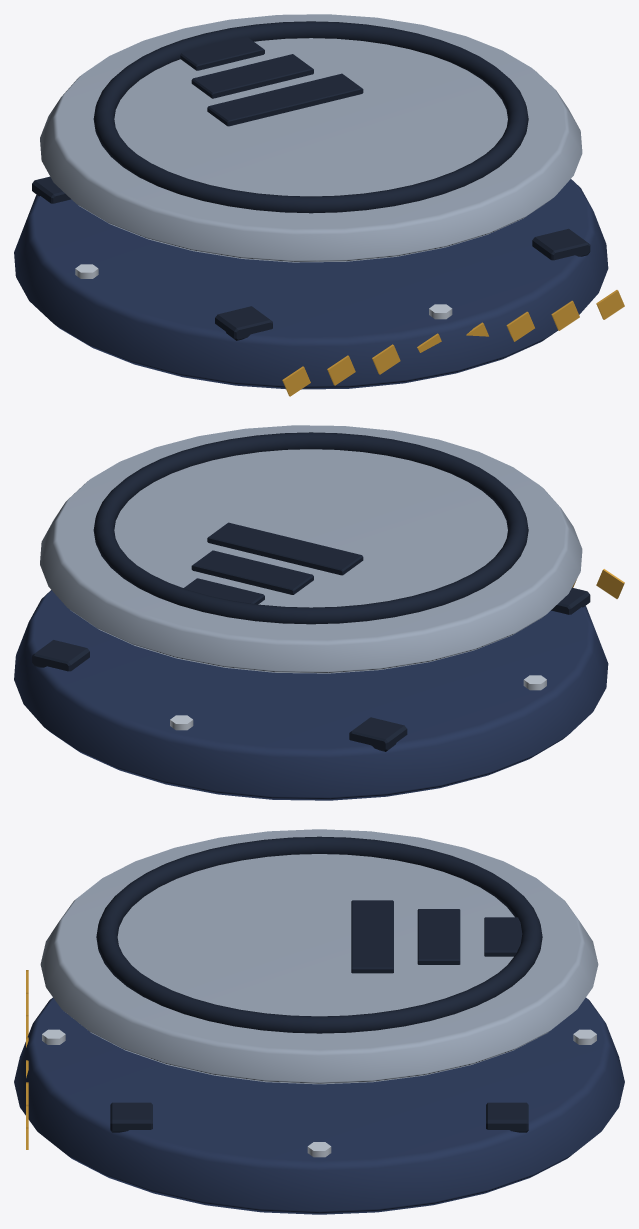
File: shared_launcher_idle.glb
3 renders of one model, top to bottom at view 1: azimuth 30°, elevation 25°; view 2: azimuth 150°, elevation 25°; view 3: azimuth 270°, elevation 25°, orthographic. The views are drawn at different scales.
Parts seen in each view (by area): view 1: launcher_pad, launcher_base, launcher_ring, launcher_chevron0, launcher_hazard, launcher_chevron1, launcher_chevron2, launcher_guide_socket1, launcher_guide_socket0, launcher_bolts, launcher_guide_socket2; view 2: launcher_pad, launcher_base, launcher_ring, launcher_chevron0, launcher_chevron1, launcher_guide_socket2, launcher_guide_socket3, launcher_chevron2, launcher_bolts, launcher_guide_socket1; view 3: launcher_pad, launcher_base, launcher_ring, launcher_chevron0, launcher_chevron1, launcher_chevron2, launcher_guide_socket0, launcher_guide_socket3, launcher_bolts.
Part boxes in pixels (box(x1,y1,x2,y2)): launcher_pad: box(40, 14, 582, 262); launcher_base: box(14, 179, 608, 389); launcher_ring: box(93, 21, 528, 213); launcher_chevron0: box(207, 73, 363, 126); launcher_hazard: box(282, 290, 624, 396); launcher_chevron1: box(191, 54, 313, 98); launcher_chevron2: box(180, 37, 264, 70); launcher_guide_socket1: box(215, 306, 272, 340); launcher_guide_socket0: box(532, 228, 590, 260); launcher_bolts: box(75, 264, 452, 319); launcher_guide_socket2: box(32, 176, 70, 203); launcher_pad: box(40, 425, 582, 673); launcher_base: box(14, 590, 608, 800); launcher_ring: box(93, 432, 528, 624); launcher_chevron0: box(207, 522, 363, 575); launcher_chevron1: box(191, 550, 313, 594); launcher_guide_socket2: box(349, 717, 407, 751); launcher_guide_socket3: box(32, 640, 89, 671); launcher_chevron2: box(184, 578, 264, 604); launcher_bolts: box(170, 675, 546, 730); launcher_guide_socket1: box(551, 587, 590, 614); launcher_pad: box(40, 829, 598, 1084); launcher_base: box(14, 997, 624, 1214); launcher_ring: box(96, 836, 542, 1033); launcher_chevron0: box(351, 900, 393, 973); launcher_chevron1: box(417, 909, 460, 964); launcher_chevron2: box(484, 917, 522, 956); launcher_guide_socket0: box(110, 1102, 152, 1132); launcher_guide_socket3: box(486, 1102, 528, 1132); launcher_bolts: box(42, 1029, 596, 1157).
Size of the model in its own units: 2.3 by 0.67 by 2.3.
